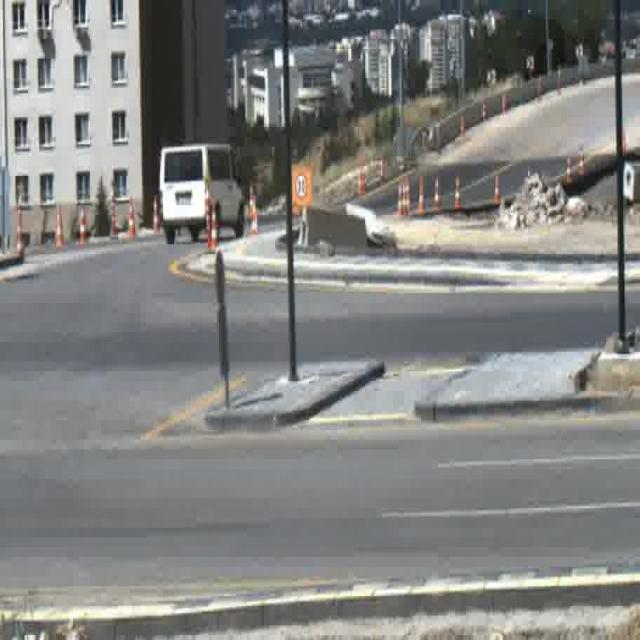Car: (161, 144, 244, 246)
